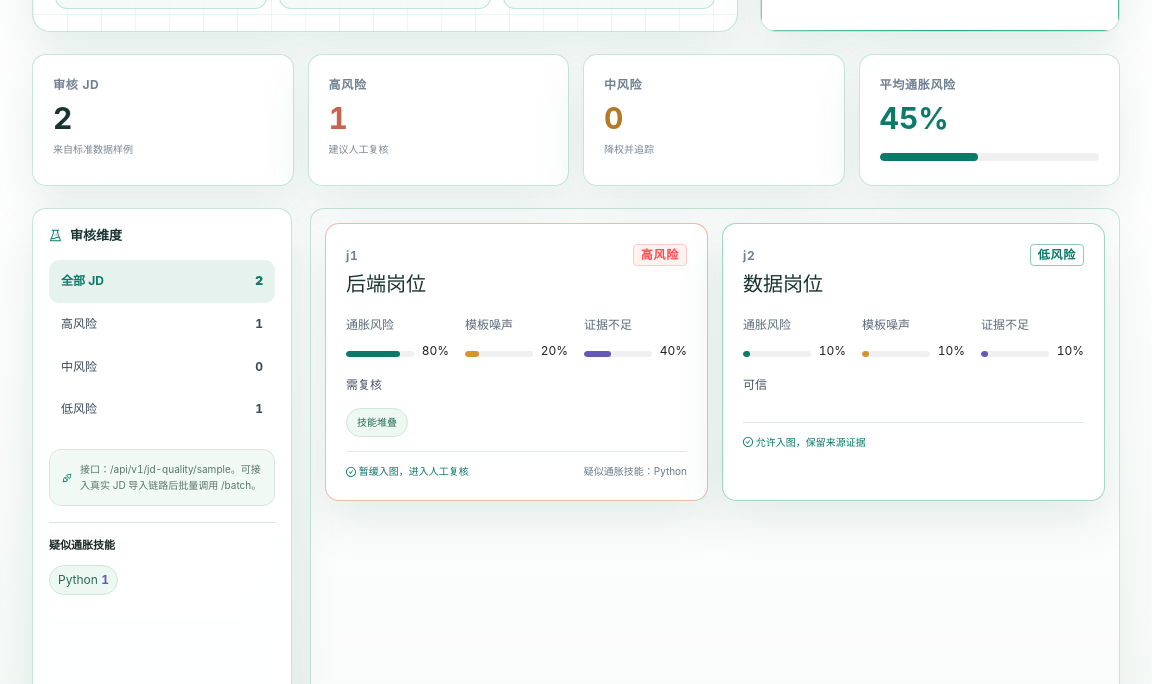
it: JD quality audit and role evolution › filters audit samples by risk and loads the next batch
(page scrolled)
expect the heading "后端岗位" is shown: met, box top-left (346, 271), bottom-right (426, 298)
Click the button "高风险 1": x=162, y=324 top-left (49, 303), bottom-right (275, 346)
(page scrolled)
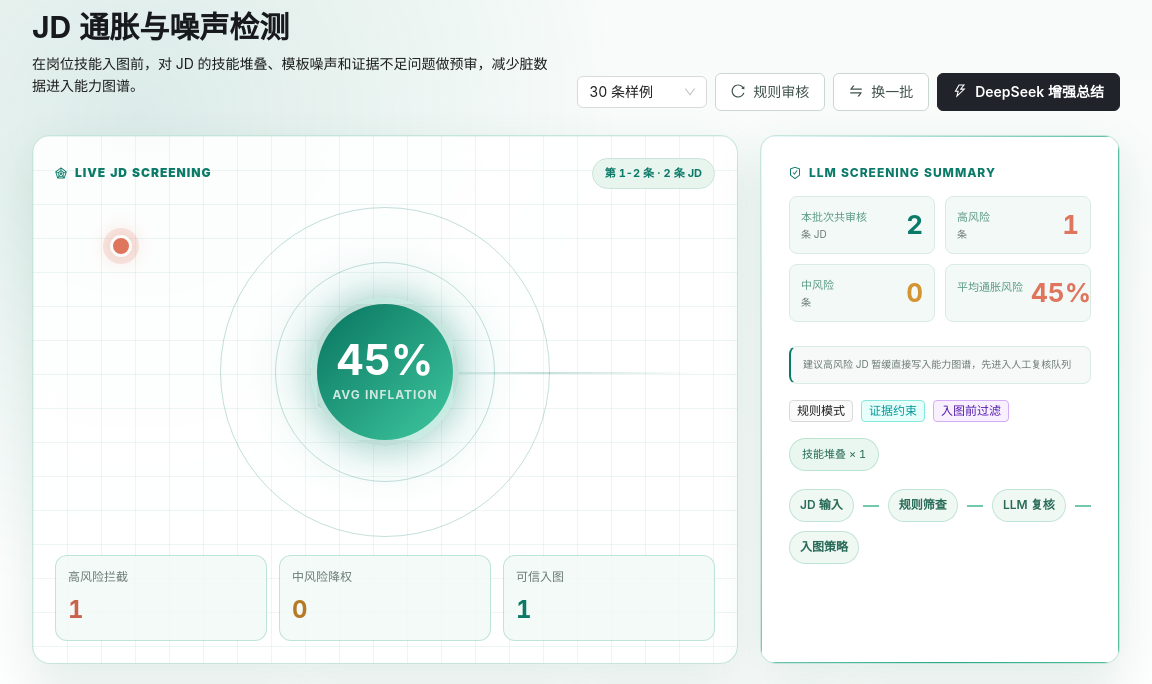
expect the heading "数据岗位" is gone: met
Click the button "换一批": x=881, y=92 top-left (833, 73), bottom-right (929, 111)
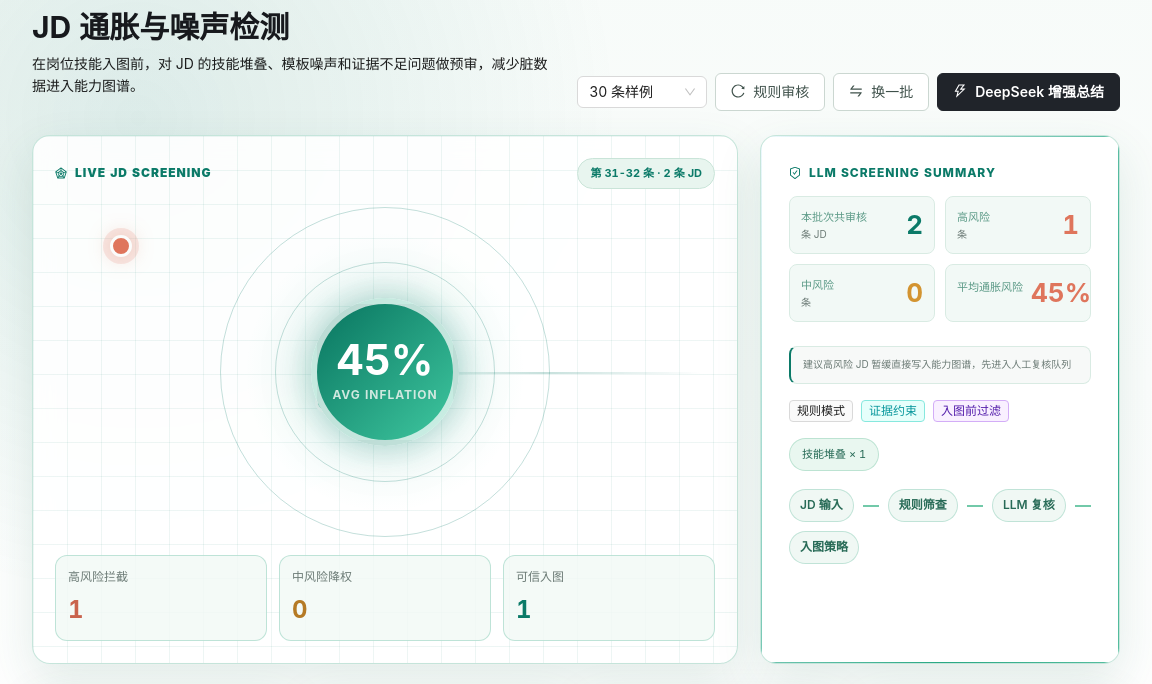
expect the text "第 31-32 条 · 2 条 JD" is shown: met, box top-left (578, 158), bottom-right (715, 189)
